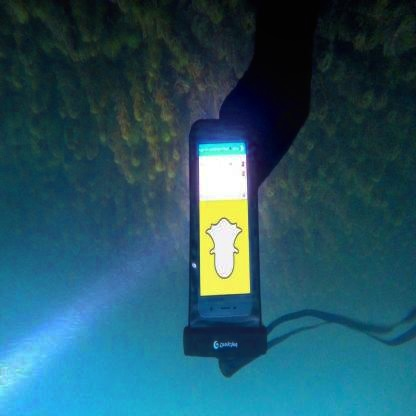cellphone: (192, 122, 255, 320)
